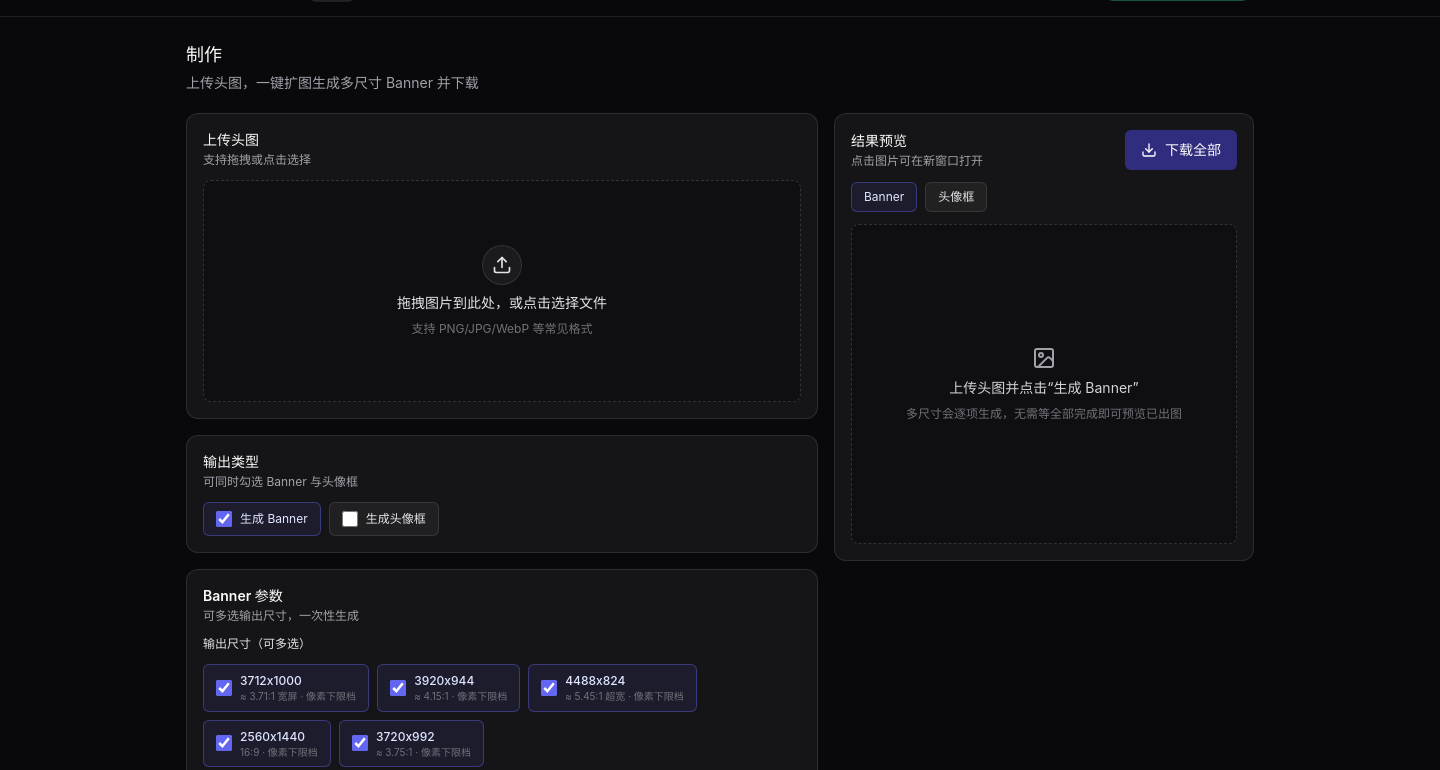
Scenario: Home › can toggle avatar-frame panel
Expected: the text "输出类型" is shown, [203,453,259,470]
Expected: the text "头像框工作流" is not shown
Click the checkbox labelled "生成头像框": (350, 519) [342,511,358,527]
(page scrolled)
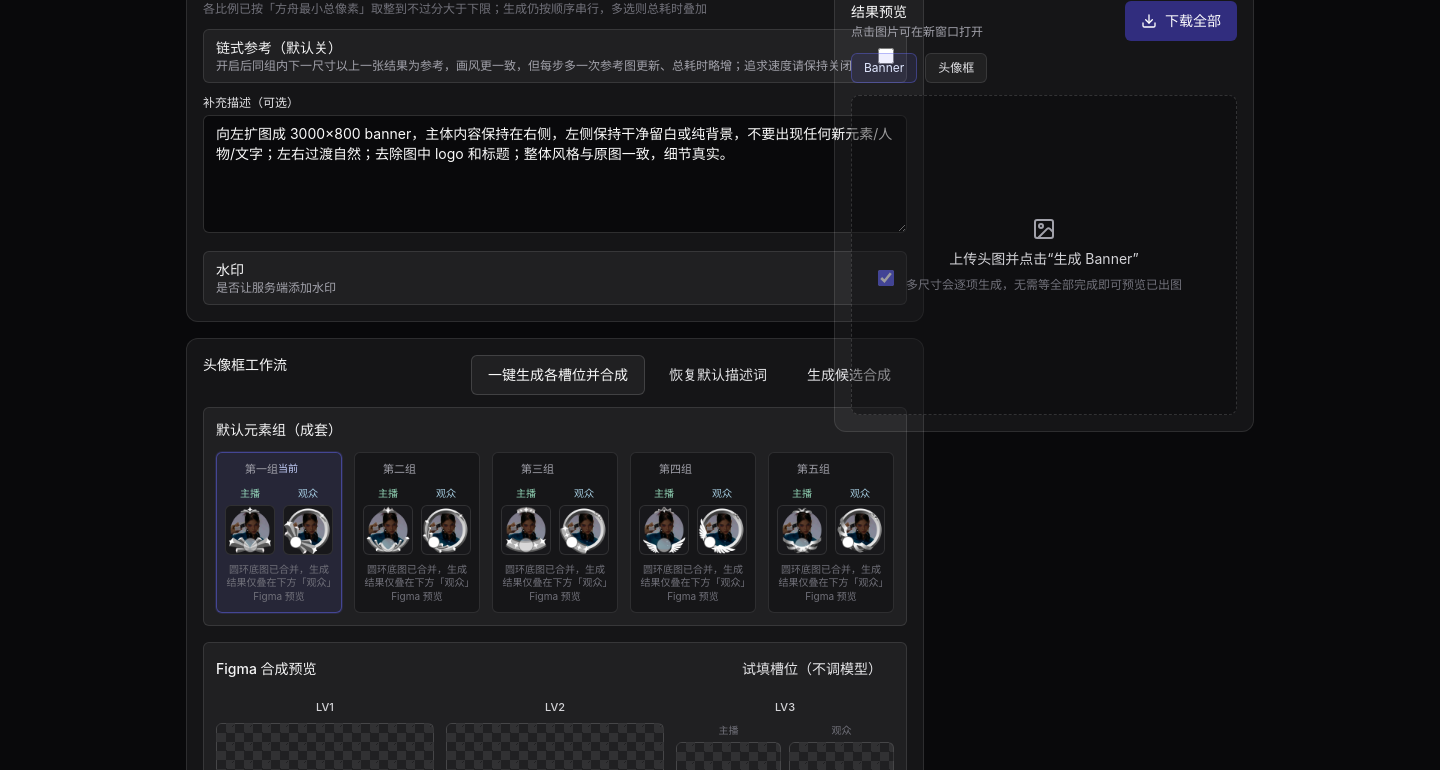
Result: the text "头像框工作流" is shown at [203,355,287,375]
